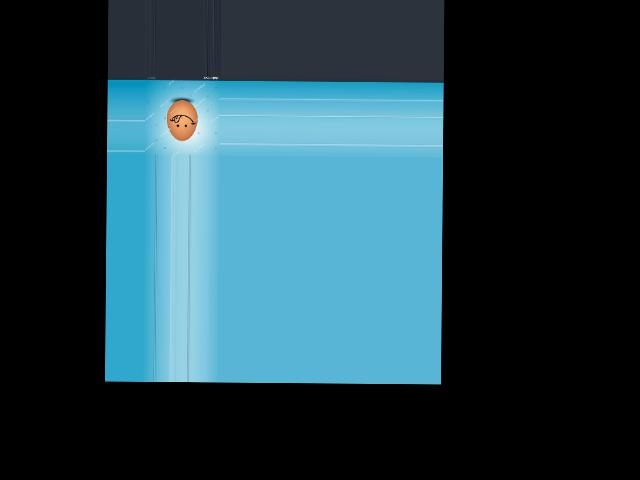egg: (166, 99, 197, 141)
